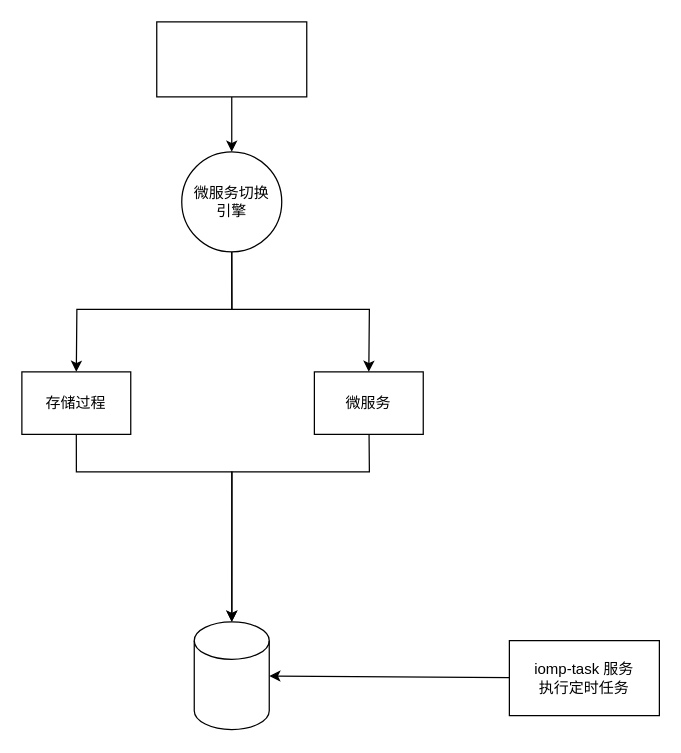
Some shapes in this 681 by 753 pixel diagram are drawn without their labels. Here are the shapes that lost their labels. From the top down, the box of each, then its label:
(156, 21, 307, 97): ZOPT客户端
(193, 621, 269, 730): Oracle
